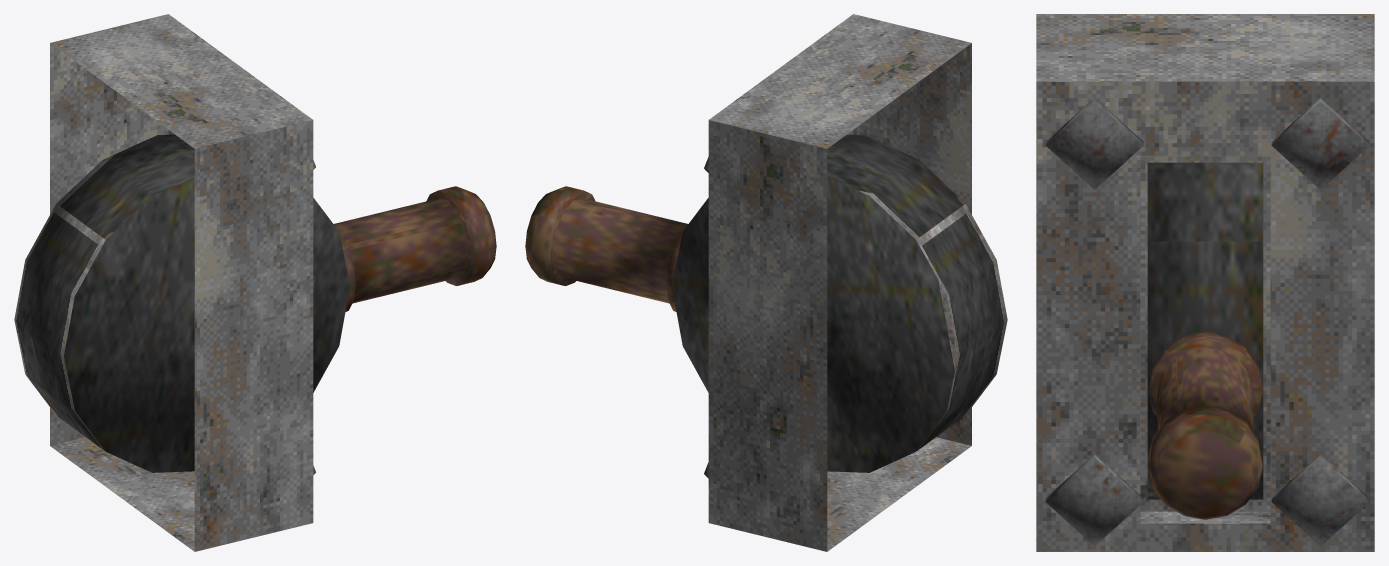
File: FBX_Lever.fbx
The picture shows the model from 3 angles, left to right: view 1: azimuth 30°, elevation 25°; view 2: azimuth 150°, elevation 25°; view 3: azimuth 270°, elevation 25°; orthographic projection. The views are drawn at different scales.
Parts seen in each view (by area): view 1: Cylinder.001, Cylinder; view 2: Cylinder.001, Cylinder; view 3: Cylinder.001, Cylinder.
Part boxes in pixels (x1,y1,x2,y2): Cylinder.001: (50, 14, 315, 551); Cylinder: (14, 134, 496, 472); Cylinder.001: (704, 14, 971, 551); Cylinder: (525, 134, 1007, 472); Cylinder.001: (1036, 14, 1374, 551); Cylinder: (1147, 162, 1263, 519).
Size of the model in its own units: 214 by 188 by 123.
